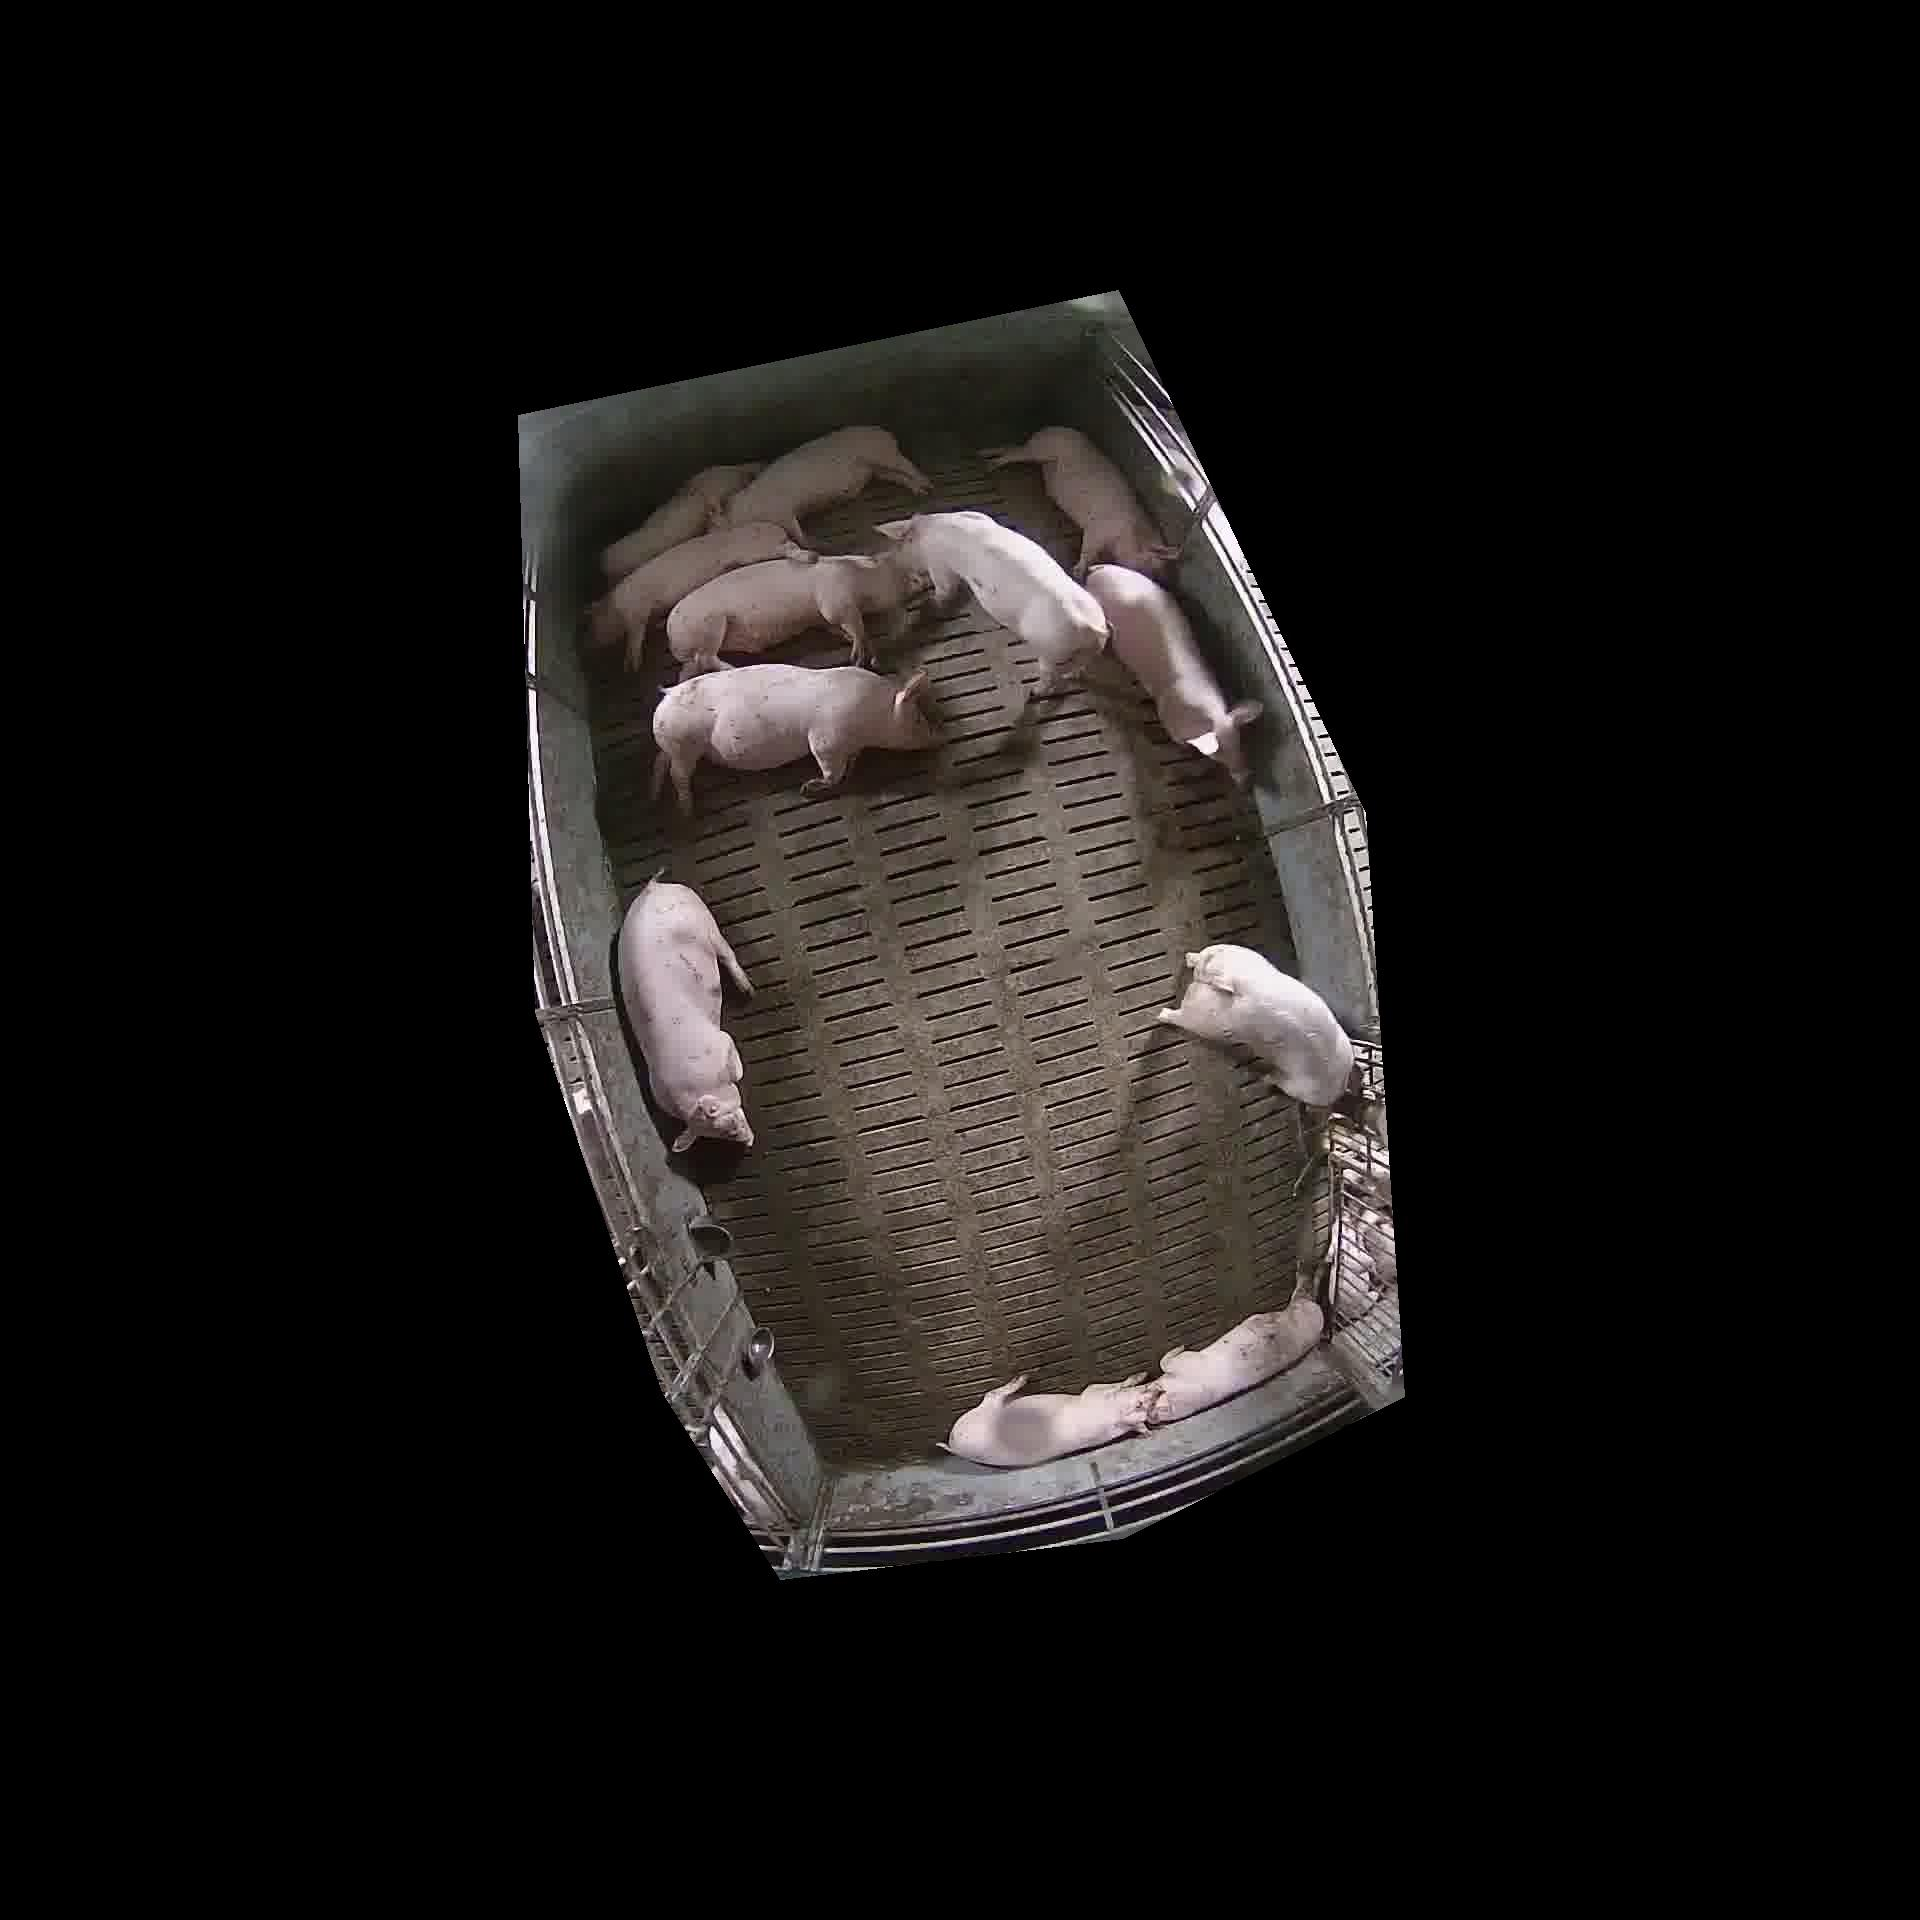pig: (652, 665, 941, 812), (877, 512, 1108, 696), (1087, 563, 1262, 777), (617, 879, 753, 1150), (666, 552, 925, 679), (587, 522, 807, 668), (1159, 944, 1354, 1106), (983, 425, 1176, 575), (719, 425, 930, 543), (1150, 1298, 1324, 1422), (600, 462, 761, 584), (948, 1375, 1155, 1466)
